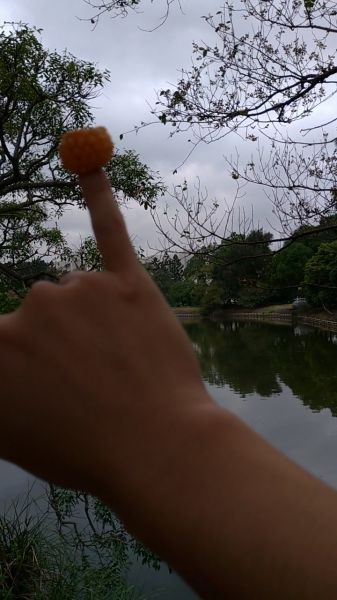eggs: (60, 129, 115, 168)
